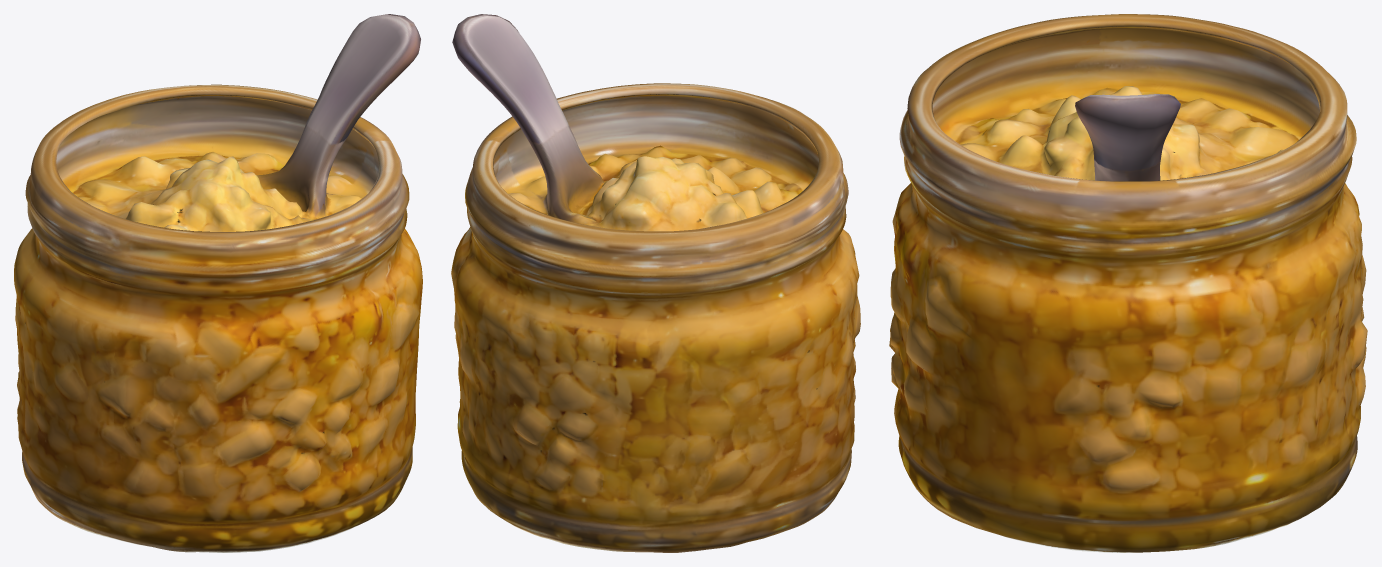
The model's file is SauceGarlicAI.fbx.
3 renders of one model, left to right at view 1: azimuth 30°, elevation 25°; view 2: azimuth 150°, elevation 25°; view 3: azimuth 270°, elevation 25°, orthographic. The views are drawn at different scales.
Parts seen in each view (by area): view 1: Retopo_Mesh.001; view 2: Retopo_Mesh.001; view 3: Retopo_Mesh.001.
Part boxes in pixels (x1,y1,x2,y2): Retopo_Mesh.001: (14, 14, 422, 552); Retopo_Mesh.001: (451, 14, 860, 552); Retopo_Mesh.001: (889, 14, 1367, 552).
Bounding box in the file's own units: 0.9577 × 1 × 0.9146.
